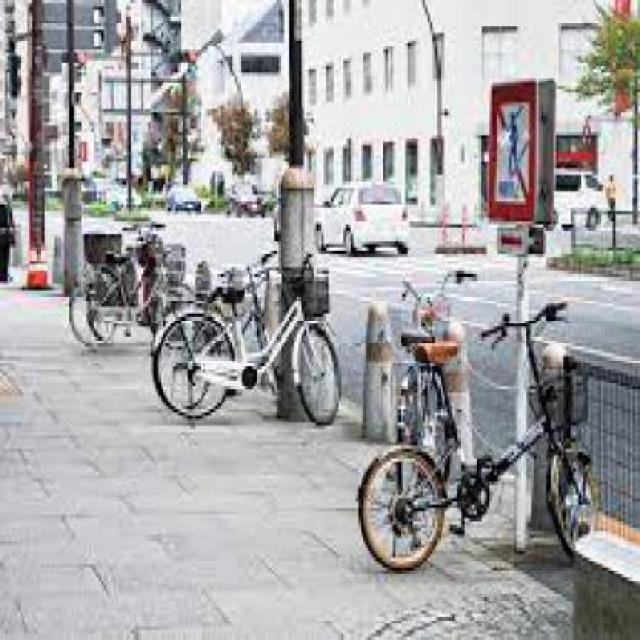bicycle: (342, 284, 596, 567), (142, 251, 353, 425)
